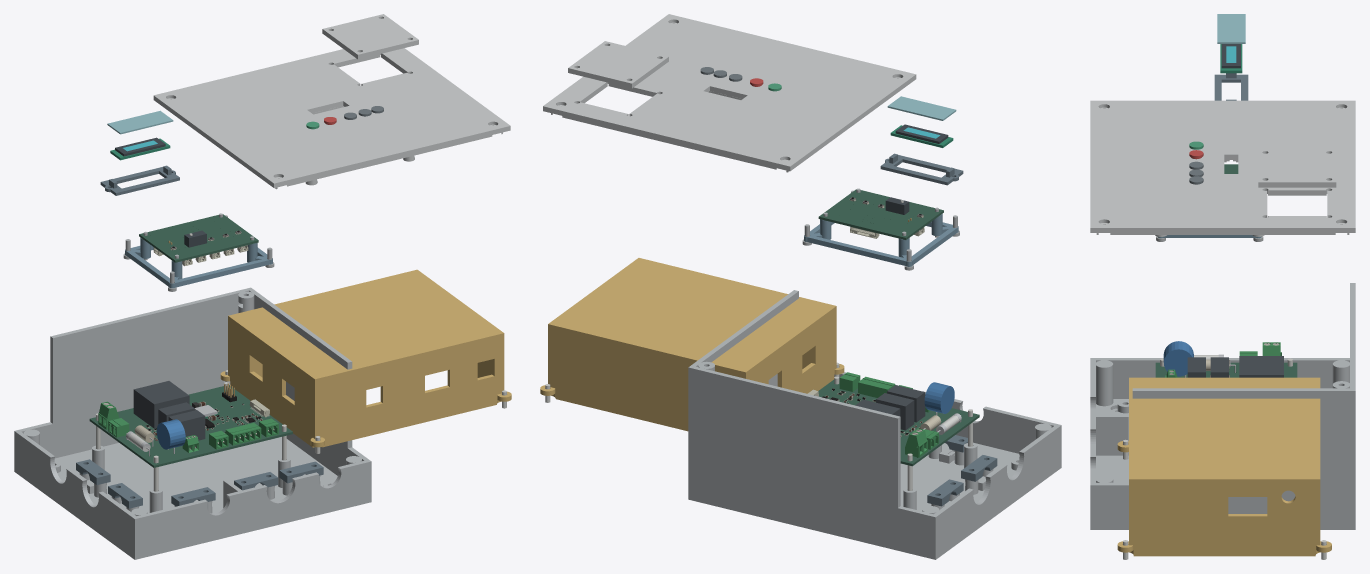
Rendered from exploded.glb.
3 renders of one model, left to right at view 1: azimuth 30°, elevation 25°; view 2: azimuth 150°, elevation 25°; view 3: azimuth 270°, elevation 25°, orthographic. The views are drawn at different scales.
Parts seen in each view (by area): view 1: base, main_board_guard, lid, native_main, native_panel, key_blank_plate, panel_carrier, display_retainer, clear_window_PURCHASED; view 2: base, main_board_guard, lid, native_main, native_panel, key_blank_plate, panel_carrier, display_retainer, clear_window_PURCHASED; view 3: main_board_guard, lid, base, native_main, key_blank_plate, clear_window_PURCHASED, display_retainer, OLED_glass_allowance.
Part boxes in pixels (x1,y1,x2,y2): base: (14,287,371,559); main_board_guard: (220,269,511,447); lid: (153,48,510,189); native_main: (89,381,292,467); native_panel: (139,214,258,266); key_blank_plate: (322,14,418,59); panel_carrier: (125,237,272,288); display_retainer: (100,165,179,195); clear_window_PURCHASED: (107,110,173,134); base: (688,290,1061,559); main_board_guard: (540,258,844,431); lid: (543,14,916,172); native_main: (807,372,979,466); native_panel: (818,189,943,239); key_blank_plate: (568,41,668,88); panel_carrier: (804,214,958,266); display_retainer: (880,153,963,185); clear_window_PURCHASED: (887,96,956,120); main_board_guard: (1117,377,1331,556); lid: (1090,100,1355,236); base: (1090,283,1355,529); native_main: (1155,341,1297,377); key_blank_plate: (1258,149,1336,187); clear_window_PURCHASED: (1217,14,1245,43); display_retainer: (1214,73,1248,100); OLED_glass_allowance: (1221,44,1240,68).
Size of the model in its own units: 0.2815 by 0.2582 by 0.15.
